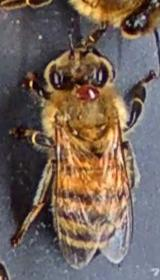varroa_mite: (70, 81, 106, 104)
